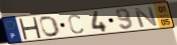4: (90, 10, 109, 34)
9: (114, 7, 135, 31)
C: (67, 13, 85, 35)
H: (18, 17, 43, 40)
N: (132, 5, 160, 29)
O: (39, 15, 62, 38)
